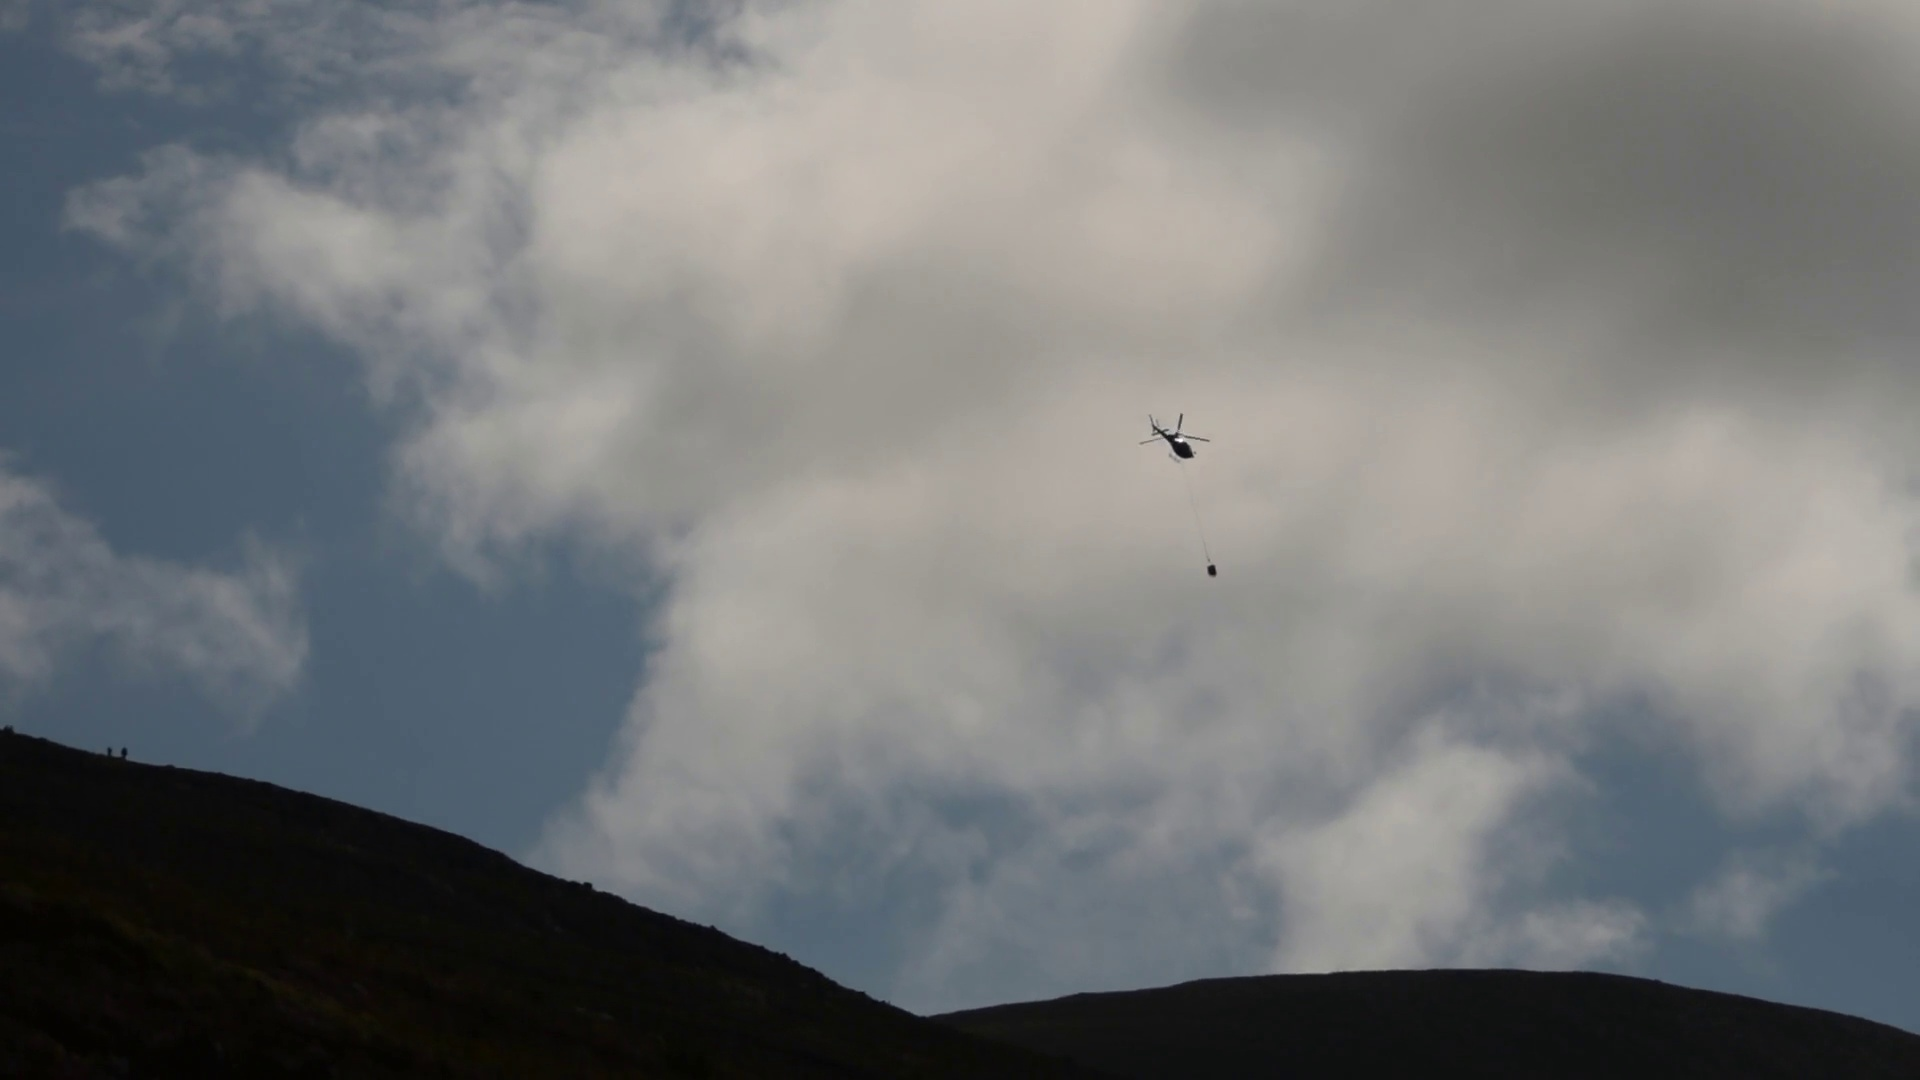heli: (1138, 411, 1211, 465)
